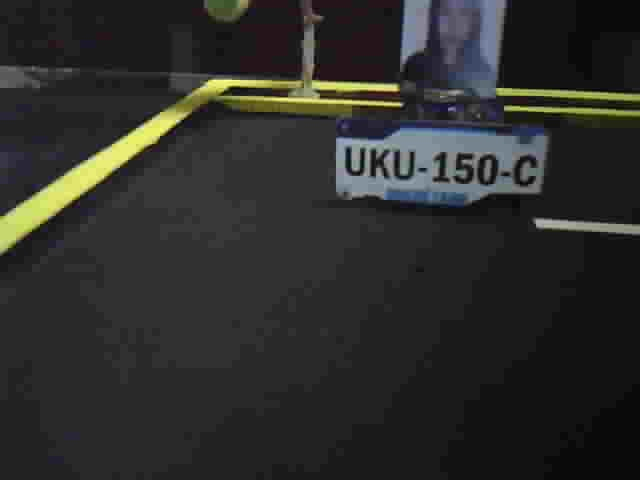PLACA: (332, 112, 552, 217)
ROSTRO: (401, 1, 496, 91)
